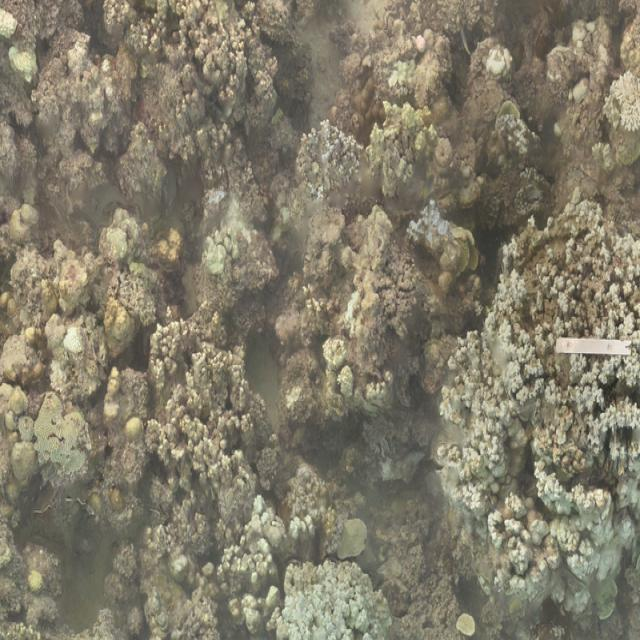Bleached Coral: (278, 555, 388, 640), (603, 48, 640, 134)
